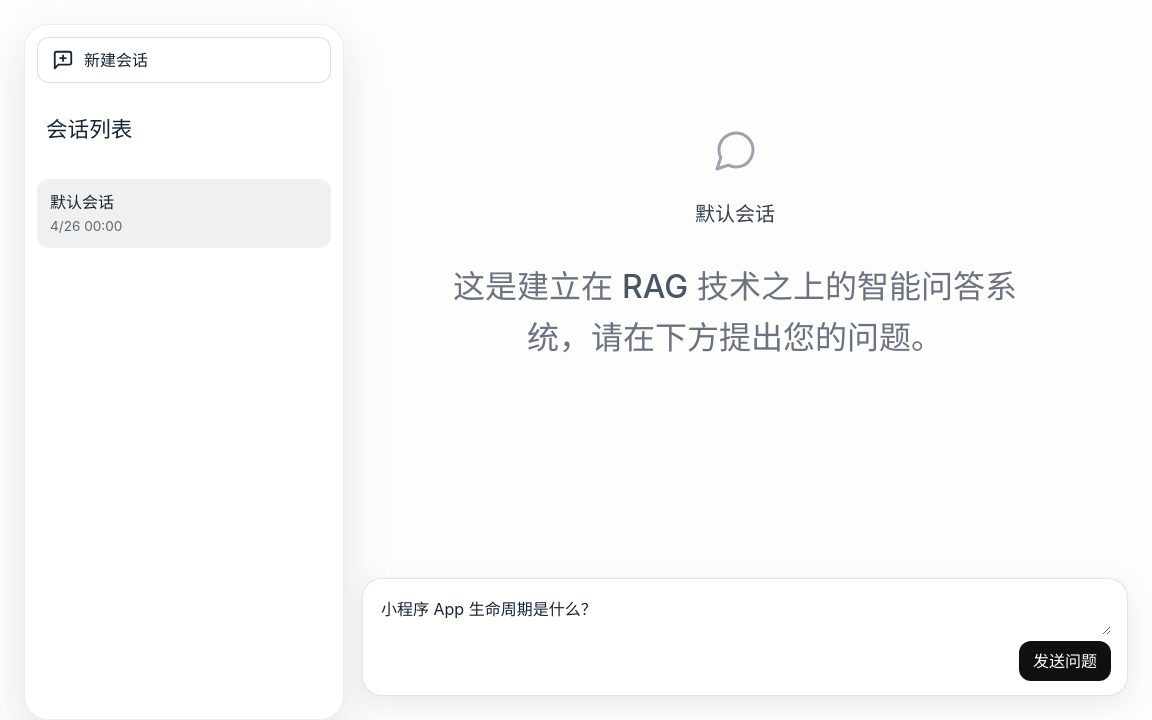
App › shows readable error and records a failed sample when the API rejects
Expected: the button with aria-label "打开会话 默认会话" is shown, [50,190,286,237]
Step 1. Click the button "发送问题" → (1065, 661), box [1019,641,1111,681]
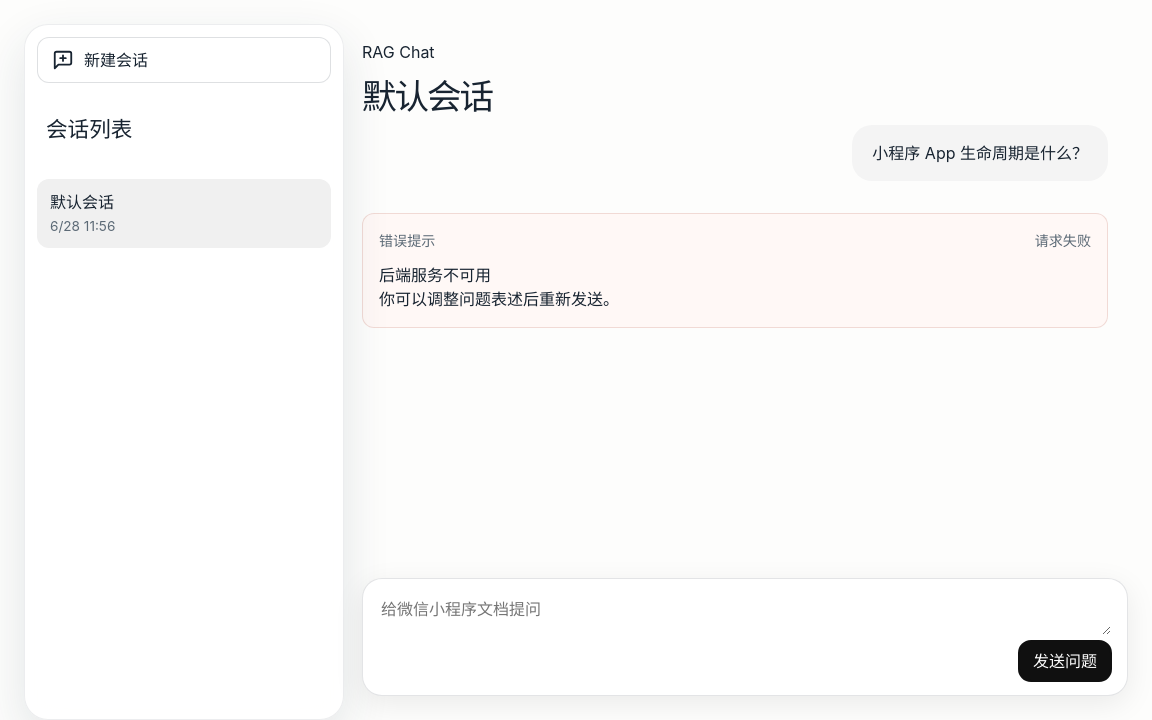
Expected: the text "后端服务不可用" is shown, [379,265,491,285]
